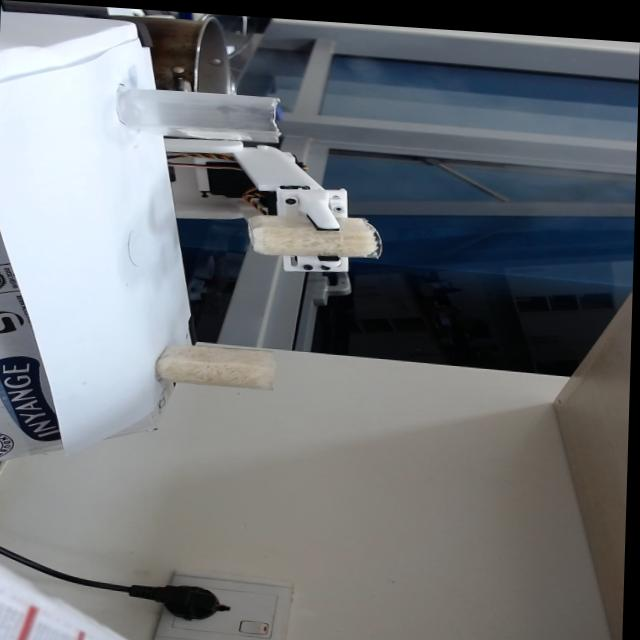raw_rice: (246, 205, 369, 257), (154, 341, 267, 387)
